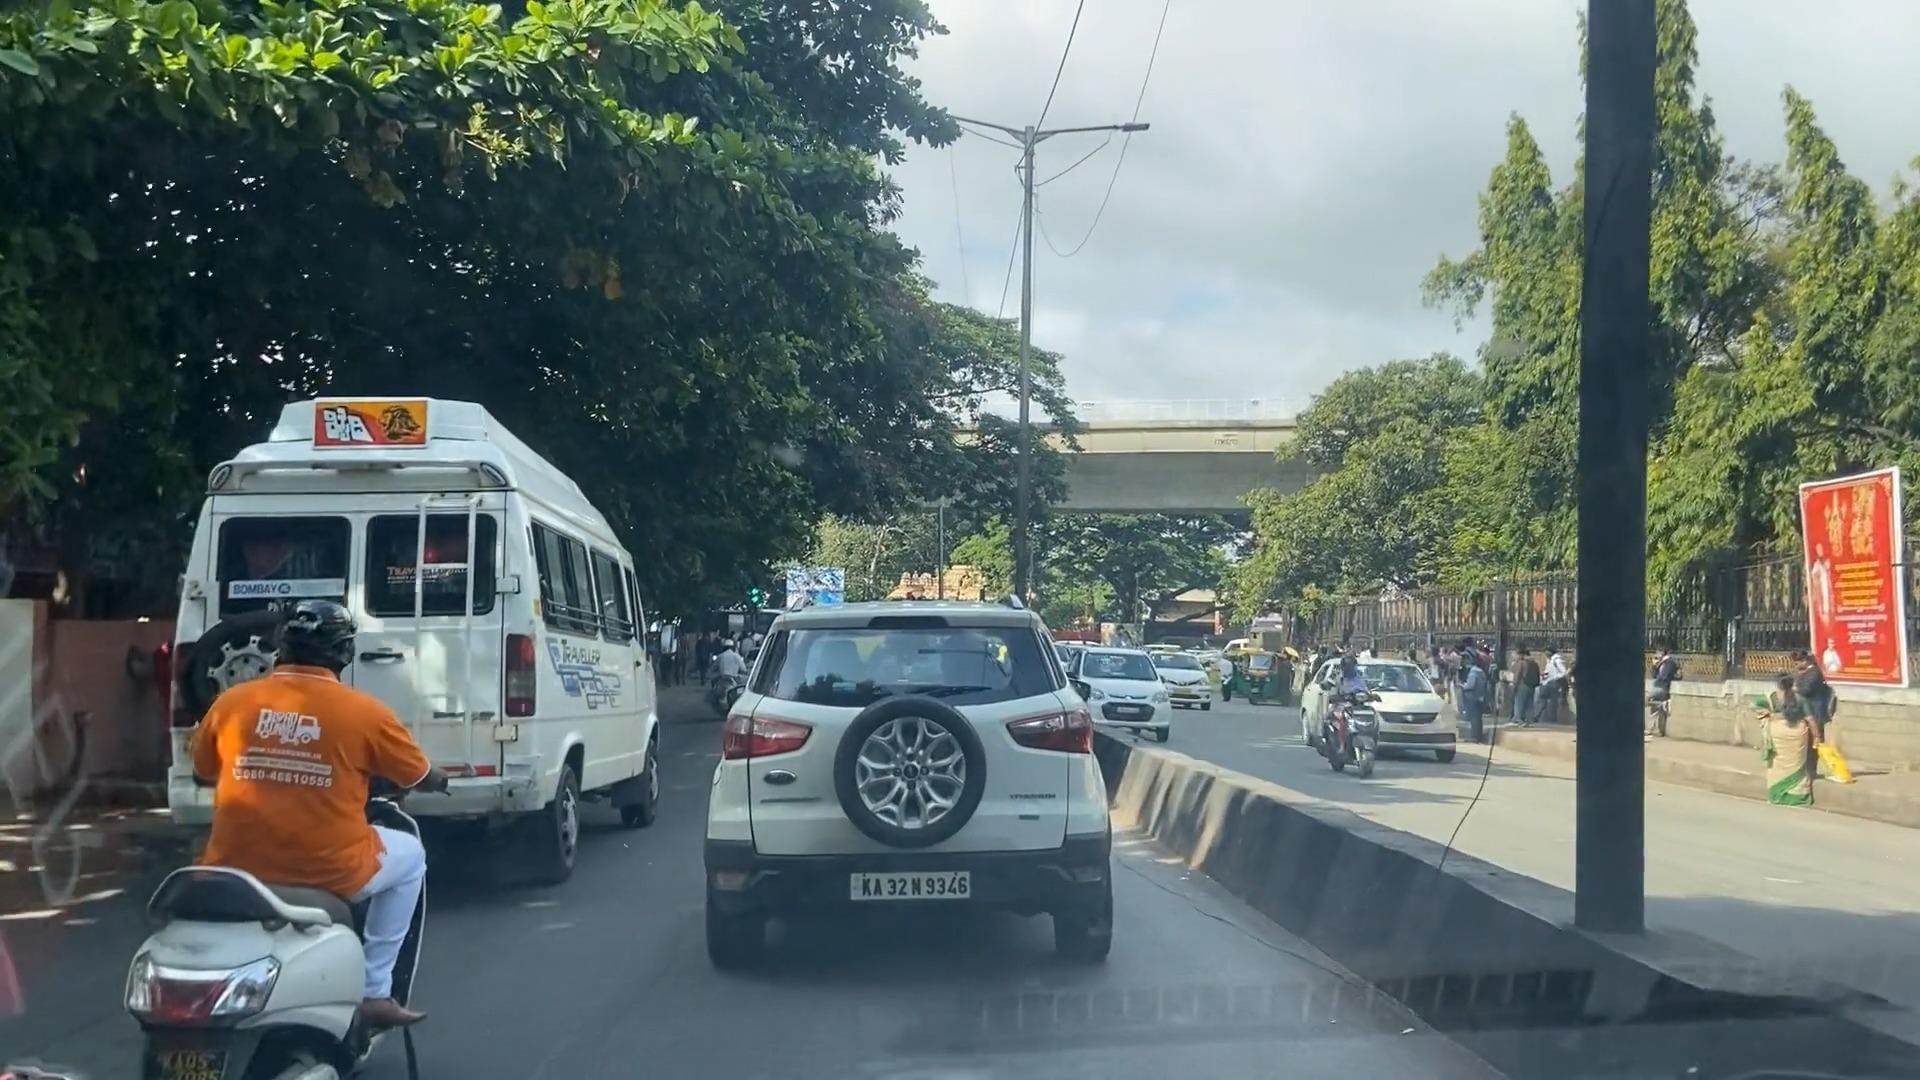HMV: (225, 407, 661, 852)
LMV: (698, 549, 1065, 947), (186, 641, 458, 1079)
